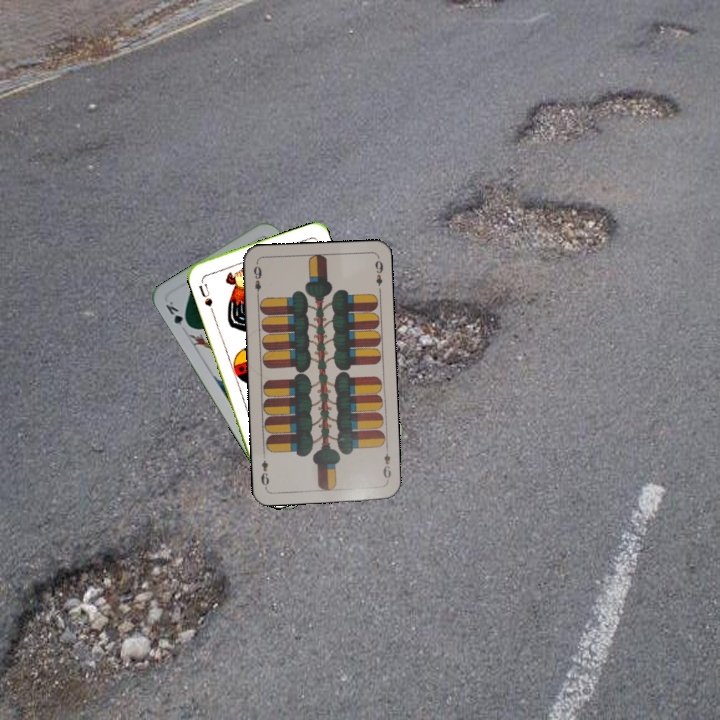E9: (379, 443, 394, 484), (250, 262, 264, 301)
GK: (161, 297, 193, 330)
SU: (195, 275, 215, 309)
